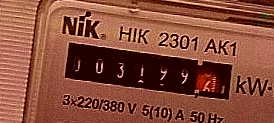0: (68, 51, 82, 73), (91, 53, 105, 74)
1: (135, 57, 146, 77)
3: (113, 58, 125, 78)
6: (201, 76, 212, 92)
9: (155, 60, 168, 81), (176, 64, 189, 84)
screen: (55, 36, 241, 107)
